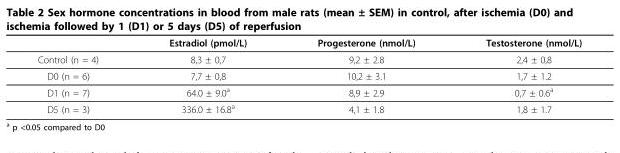table: (37, 36, 581, 114)
table column: (281, 36, 449, 114), (133, 36, 281, 114), (449, 36, 581, 114), (37, 36, 133, 114)
table column header: (37, 36, 581, 50)
table row: (37, 50, 581, 67), (37, 67, 581, 83), (37, 83, 581, 99), (37, 99, 581, 114), (37, 36, 581, 50)
